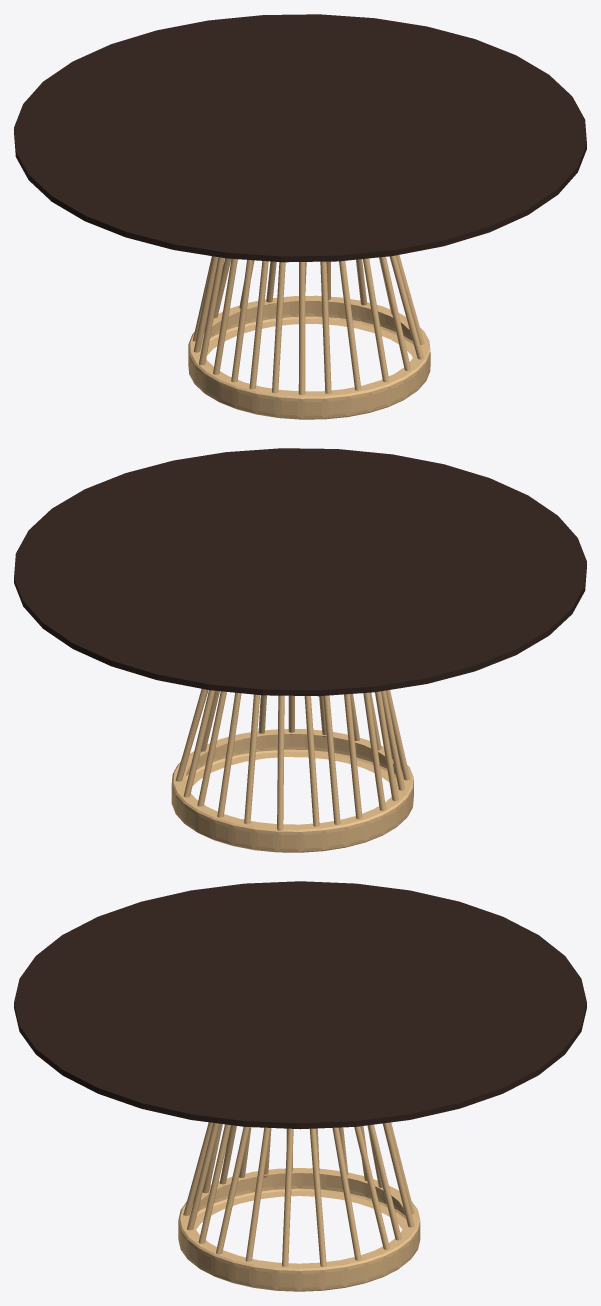
3 renders of one model, top to bottom at view 1: azimuth 30°, elevation 25°; view 2: azimuth 150°, elevation 25°; view 3: azimuth 270°, elevation 25°, orthographic.
Parts seen in each view (by area): view 1: Cylinder, Cylinder.003, Cylinder.009, Cylinder.011, Cylinder.008, Cylinder.007, Cylinder.010, Cylinder.012, Cylinder.006, Cylinder.004, Cylinder.013, Cylinder.001 (+2 smaller); view 2: Cylinder, Cylinder.003, Cylinder.025, Cylinder.024, Cylinder.022, Cylinder.023, Cylinder.021, Cylinder.005, Cylinder.001, Cylinder.020, Cylinder.004, Cylinder.019 (+3 smaller); view 3: Cylinder, Cylinder.003, Cylinder.017, Cylinder.016, Cylinder.015, Cylinder.018, Cylinder.014, Cylinder.019, Cylinder.013, Cylinder.020, Cylinder.012, Cylinder.021 (+1 smaller).
Boxes of the visible parts, <box> form: Cylinder: <box>14,14,586,262</box>; Cylinder.003: <box>188,295,430,419</box>; Cylinder.009: <box>298,262,305,394</box>; Cylinder.011: <box>320,261,331,393</box>; Cylinder.008: <box>272,262,285,393</box>; Cylinder.007: <box>249,261,268,389</box>; Cylinder.010: <box>339,261,361,390</box>; Cylinder.012: <box>363,258,389,382</box>; Cylinder.006: <box>231,260,253,382</box>; Cylinder.004: <box>213,258,237,374</box>; Cylinder.013: <box>379,256,410,370</box>; Cylinder.001: <box>199,257,224,365</box>; Cylinder: <box>14,448,586,696</box>; Cylinder.003: <box>171,729,413,852</box>; Cylinder.025: <box>277,695,284,830</box>; Cylinder.024: <box>304,696,319,826</box>; Cylinder.022: <box>244,694,259,824</box>; Cylinder.023: <box>323,695,340,824</box>; Cylinder.021: <box>217,692,241,817</box>; Cylinder.005: <box>344,694,362,819</box>; Cylinder.001: <box>363,692,385,810</box>; Cylinder.020: <box>197,691,226,806</box>; Cylinder.004: <box>375,691,398,800</box>; Cylinder.019: <box>183,690,215,797</box>; Cylinder: <box>14,881,586,1129</box>; Cylinder.003: <box>178,1168,420,1291</box>; Cylinder.017: <box>309,1128,326,1266</box>; Cylinder.016: <box>282,1128,293,1266</box>; Cylinder.015: <box>245,1127,270,1261</box>; Cylinder.018: <box>332,1127,361,1260</box>; Cylinder.014: <box>216,1127,249,1254</box>; Cylinder.019: <box>354,1126,389,1249</box>; Cylinder.013: <box>198,1124,231,1243</box>; Cylinder.020: <box>367,1124,401,1240</box>; Cylinder.012: <box>187,1123,219,1230</box>; Cylinder.021: <box>382,1122,414,1227</box>.
Bounding box in the file's own units: 0.9 × 0.4073 × 0.9.
